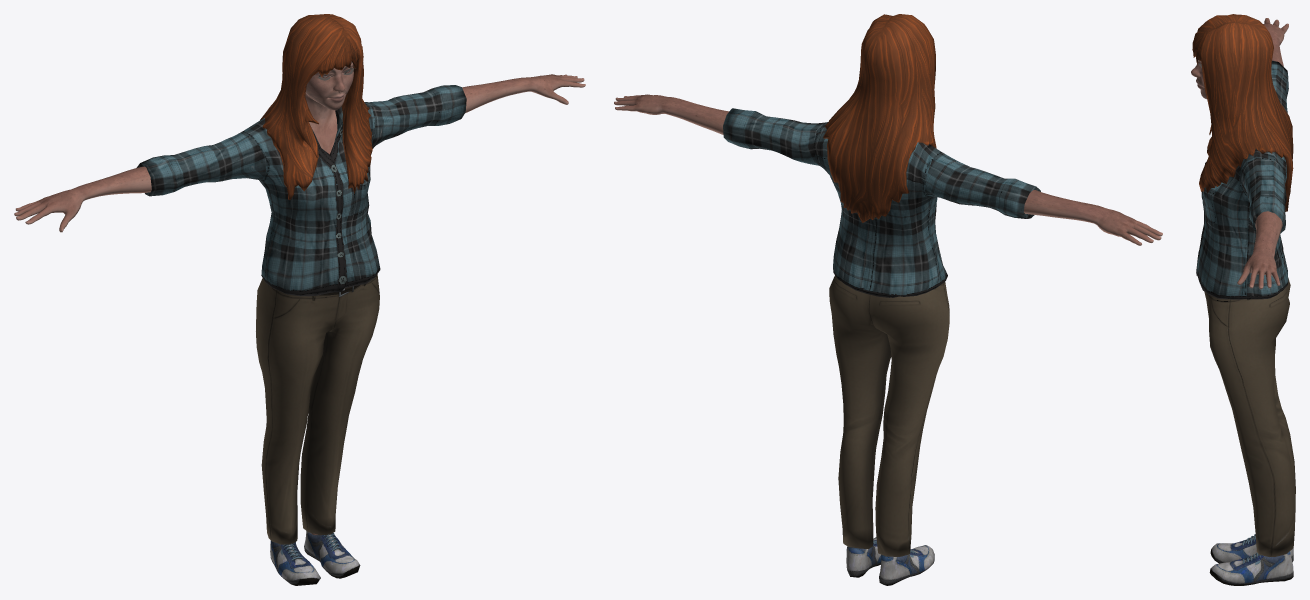
Rendered from Girl A.obj.
3 renders of one model, left to right at view 1: azimuth 30°, elevation 25°; view 2: azimuth 150°, elevation 25°; view 3: azimuth 270°, elevation 25°, orthographic. The views are drawn at different scales.
Parts seen in each view (by area): view 1: Bottoms, Tops, Hair, Body, Shoes; view 2: Bottoms, Tops, Hair, Body, Shoes; view 3: Bottoms, Hair, Tops, Shoes, Body.
Part boxes in pixels (x1,y1,x2,y2): Bottoms: [256, 274, 379, 544]; Tops: [136, 85, 466, 296]; Hair: [260, 14, 372, 199]; Body: [14, 61, 585, 534]; Shoes: [270, 531, 360, 585]; Bottoms: [829, 275, 949, 556]; Tops: [723, 108, 1040, 297]; Hair: [823, 14, 936, 222]; Body: [614, 94, 1162, 245]; Shoes: [846, 537, 934, 585]; Bottoms: [1204, 278, 1295, 557]; Hair: [1192, 14, 1293, 211]; Tops: [1196, 60, 1288, 299]; Shoes: [1209, 534, 1293, 585]; Body: [1191, 18, 1288, 289].
Bounding box in the file's own units: 168 × 160 × 27.29.
Materials: 5 (5 with a texture image).
